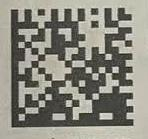datamatrix: (12, 9, 135, 128)
